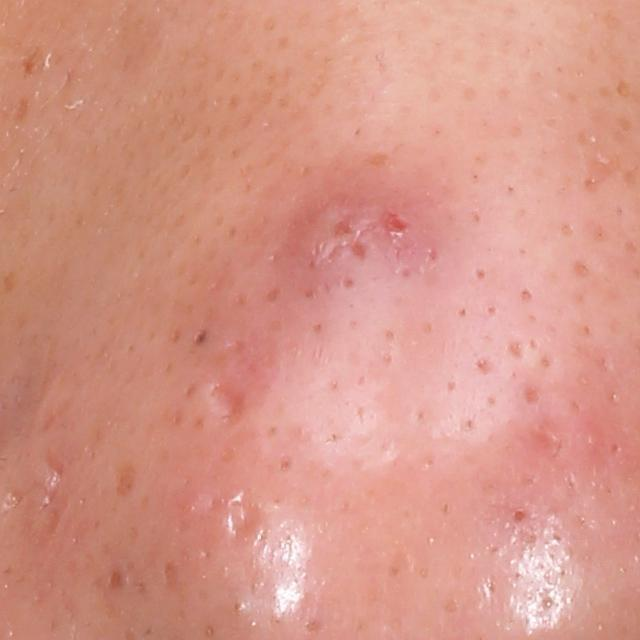atrophic_scar: (202, 382, 254, 428), (37, 442, 67, 512), (227, 488, 265, 542)
comedo: (189, 324, 216, 351), (510, 507, 527, 524)
melasma: (109, 456, 141, 503), (19, 44, 45, 82), (1, 270, 18, 295), (14, 99, 31, 120)
